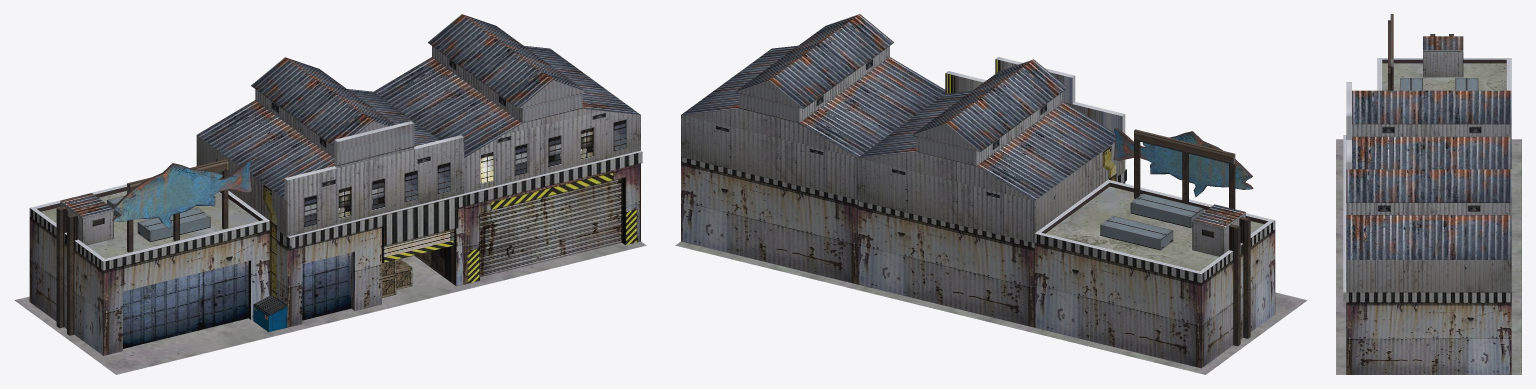
Rendered from logistics.glb.
The picture shows the model from 3 angles, left to right: view 1: azimuth 30°, elevation 25°; view 2: azimuth 150°, elevation 25°; view 3: azimuth 270°, elevation 25°; orthographic projection. The views are drawn at different scales.
Visible parts, largest first — view 1: pasted__pCube1, pasted__polySurface17, pasted__polySurface6 (×2), pasted__polySurface21, pasted__pCube2, pasted__polySurface5, pasted__polySurface23, pasted__polySurface4, pasted__polySurface11, pasted__polySurface24, pasted__polySurface28, pasted__pCube3 (+14 smaller); view 2: pasted__pCube1, pasted__pCube3, pasted__pCube2, pasted__polySurface17, pasted__polySurface5, pasted__polySurface6 (×2), pasted__polySurface11, pasted__polySurface4, pasted__pCube4, pasted__pCube17, pasted__pCube7, pasted__polySurface14 (×2) (+7 smaller); view 3: pasted__pCube2, pasted__polySurface6 (×2), pasted__polySurface17, pasted__polySurface5, pasted__pCube1, pasted__pCube4, pasted__polySurface1, pasted__polySurface2, pasted__polySurface4, pasted__polySurface23, pasted__polySurface8, pasted__pCube17 (+4 smaller).
Boxes of the visible parts, <box> form: pasted__pCube1: <box>29,184,269,355</box>; pasted__polySurface17: <box>374,45,640,193</box>; pasted__polySurface6 (×2): <box>251,14,586,146</box>; pasted__polySurface21: <box>287,123,464,236</box>; pasted__pCube2: <box>480,178,625,276</box>; pasted__polySurface5: <box>197,89,439,198</box>; pasted__polySurface23: <box>287,150,642,249</box>; pasted__polySurface4: <box>14,296,292,374</box>; pasted__polySurface11: <box>114,160,251,228</box>; pasted__polySurface24: <box>287,227,381,327</box>; pasted__polySurface28: <box>464,163,640,284</box>; pasted__pCube3: <box>196,135,456,304</box>; pasted__pCube1: <box>1034,179,1275,368</box>; pasted__pCube3: <box>857,142,1125,327</box>; pasted__pCube2: <box>681,115,857,284</box>; pasted__polySurface17: <box>681,45,945,157</box>; pasted__polySurface5: <box>858,91,1115,201</box>; pasted__polySurface6 (×2): <box>735,14,1067,151</box>; pasted__polySurface11: <box>1113,128,1251,197</box>; pasted__polySurface4: <box>1029,292,1307,374</box>; pasted__pCube4: <box>1192,204,1245,256</box>; pasted__pCube17: <box>1100,216,1173,250</box>; pasted__pCube7: <box>1130,193,1203,227</box>; pasted__polySurface14 (×2): <box>735,80,979,151</box>; pasted__pCube2: <box>1346,260,1511,374</box>; pasted__polySurface6 (×2): <box>1346,90,1511,202</box>; pasted__polySurface17: <box>1346,203,1511,259</box>; pasted__polySurface5: <box>1352,124,1511,169</box>; pasted__pCube1: <box>1377,58,1511,90</box>; pasted__pCube4: <box>1423,36,1463,77</box>; pasted__polySurface1: <box>1336,296,1521,374</box>; pasted__polySurface2: <box>1336,217,1521,296</box>; pasted__polySurface4: <box>1336,139,1521,217</box>; pasted__polySurface23: <box>1343,135,1346,302</box>; pasted__polySurface8: <box>1346,82,1351,139</box>; pasted__pCube17: <box>1455,78,1478,90</box>.
Size of the model in its own units: 5400 by 1776 by 1800.
3 materials, 3 textured.
